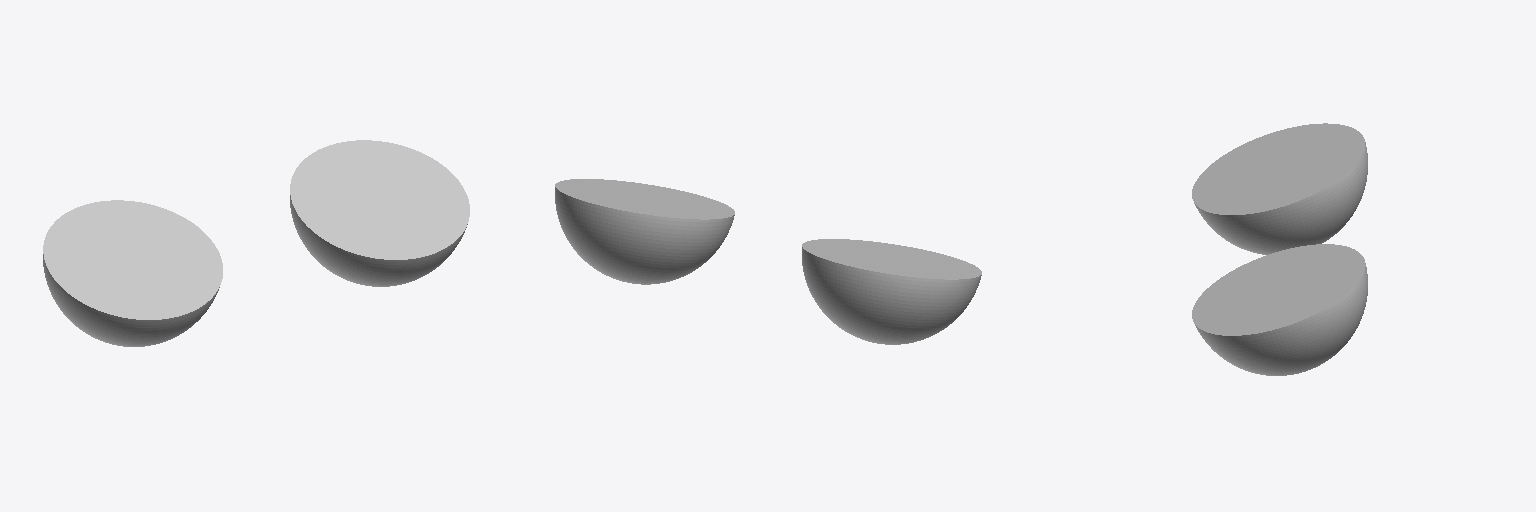
The model's file is Lower_eyelid.obj.
The picture shows the model from 3 angles: view 1: azimuth 30°, elevation 25°; view 2: azimuth 150°, elevation 25°; view 3: azimuth 270°, elevation 25°; orthographic projection.
Visible parts, largest first — view 1: Group11178, Group25758, Group8460; view 2: Group25758, Group8460, Group11178; view 3: Group11178, Group8460, Group25758.
Part boxes in pixels (x1,y1,x2,y2): Group11178: (43, 140, 469, 319); Group25758: (43, 254, 219, 346); Group8460: (290, 195, 467, 286); Group25758: (802, 247, 981, 344); Group8460: (555, 187, 734, 284); Group11178: (555, 179, 981, 279); Group11178: (1192, 123, 1365, 335); Group8460: (1195, 263, 1367, 375); Group25758: (1194, 142, 1367, 254).
Bounding box in the file's own units: 0.1082 × 0.0262 × 0.0408.